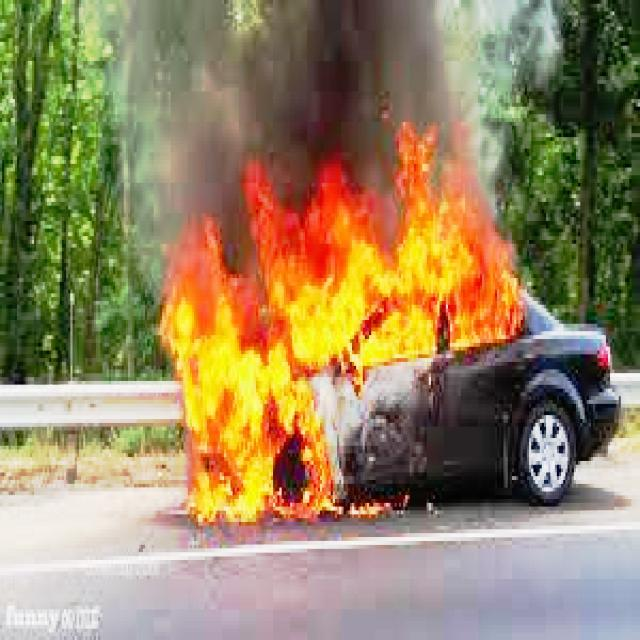api: (168, 150, 535, 535)
